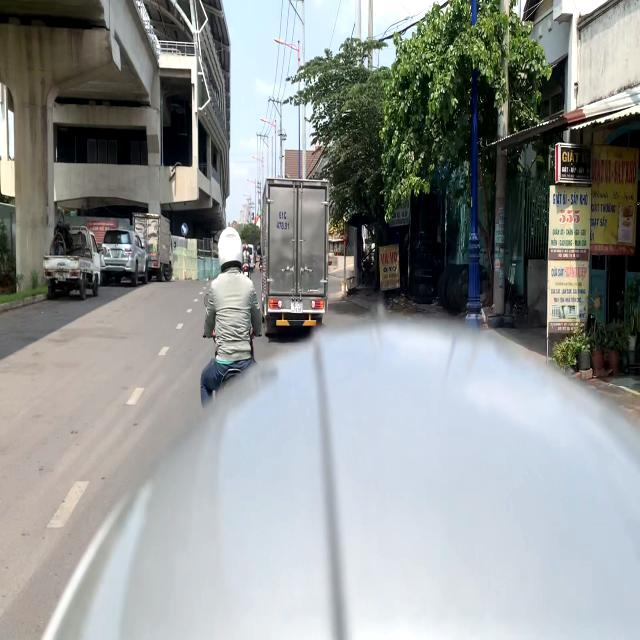Vong chuong ngai vat sang phai: (180, 222, 188, 236)
